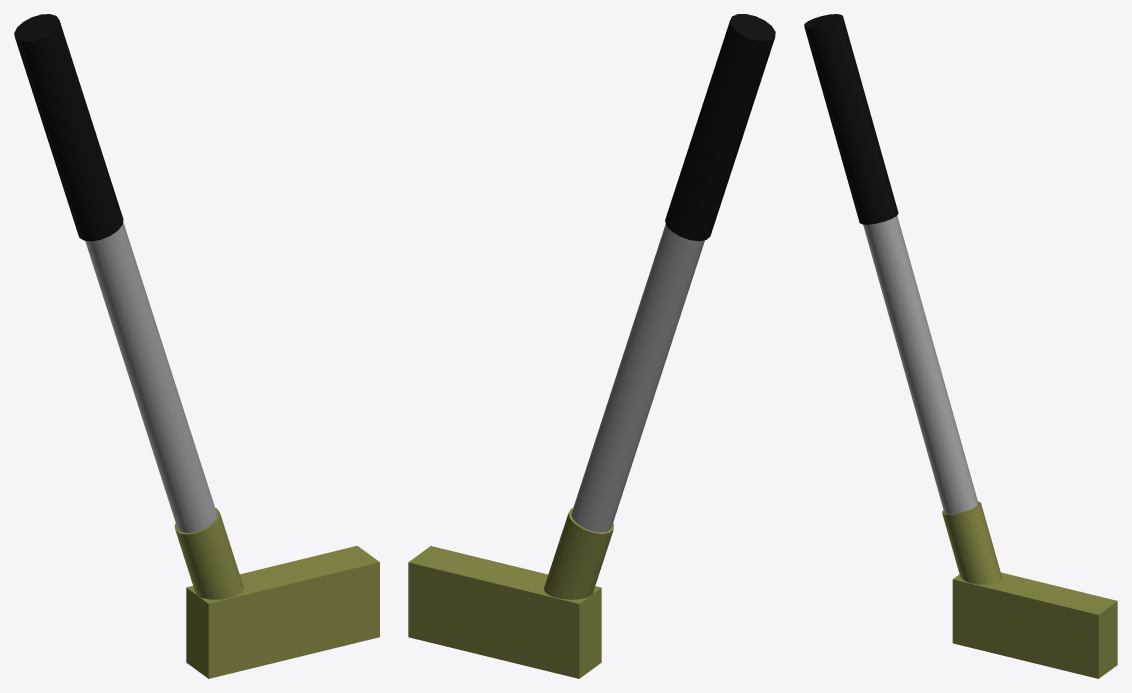
Rendered from smallClub.fbx.
3 renders of one model, left to right at view 1: azimuth 30°, elevation 25°; view 2: azimuth 150°, elevation 25°; view 3: azimuth 330°, elevation 25°, orthographic. The views are drawn at different scales.
Parts seen in each view (by area): view 1: pCube3; view 2: pCube3; view 3: pCube3.
Boxes of the visible parts, x1,y1,x2,y2 form: pCube3: (14,14,379,678); pCube3: (408,14,775,678); pCube3: (804,14,1117,678).
Bounding box in the file's own units: 2.06 × 3.85 × 0.2322.
